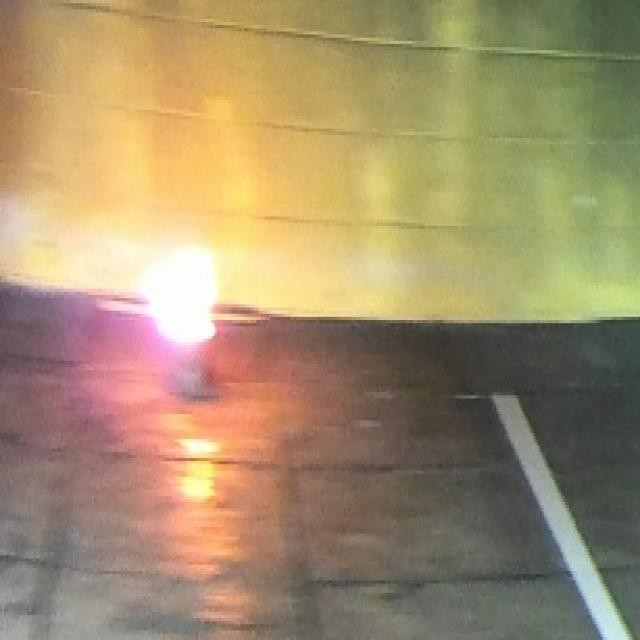Fire: (142, 242, 218, 343)
